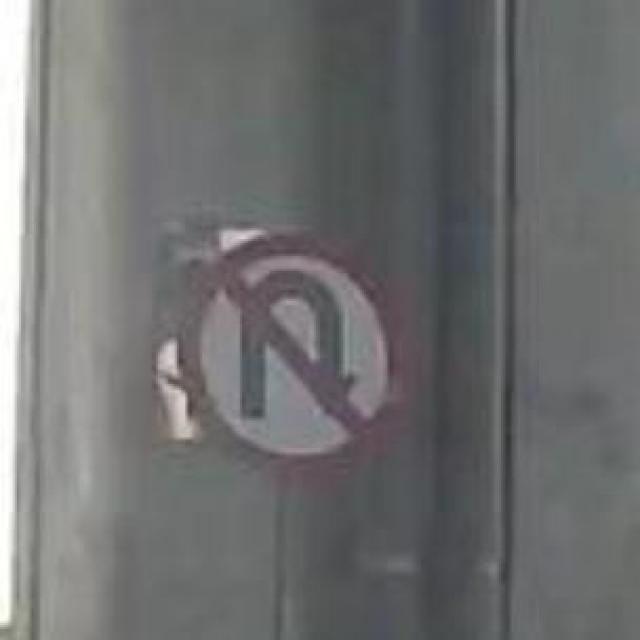traffic sign: (185, 235, 402, 474)
